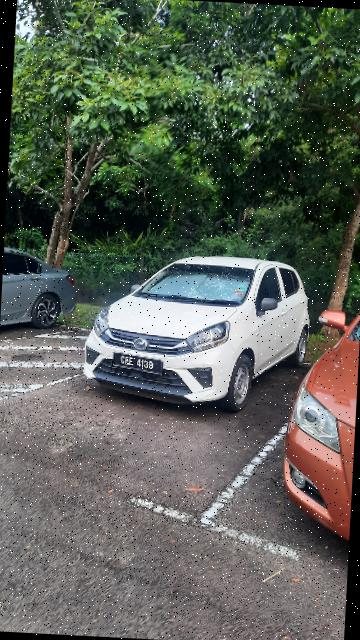License_Plate: (108, 351, 167, 379)
car: (81, 248, 314, 419)
